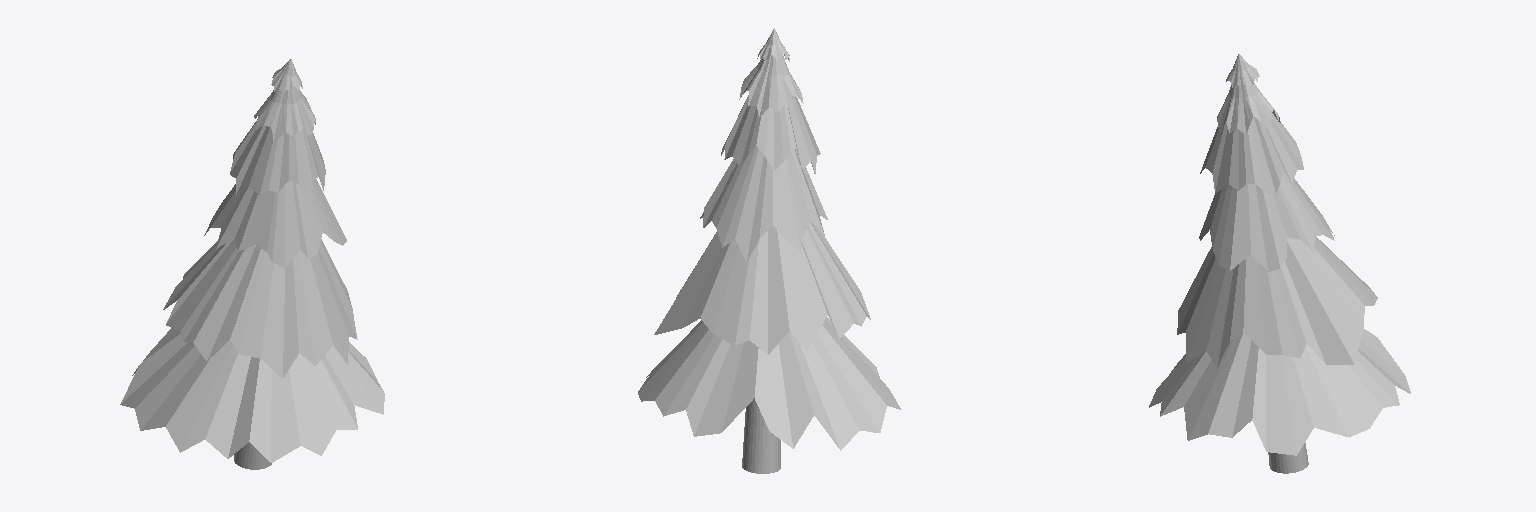
Rendered from tree_1.obj.
3 views of the same model, side by side, from view 1: azimuth 30°, elevation 25°; view 2: azimuth 150°, elevation 25°; view 3: azimuth 270°, elevation 25° (orthographic).
Parts seen in each view (by area): view 1: Tree.004_Cone.010; view 2: Tree.004_Cone.010; view 3: Tree.004_Cone.010.
Boxes of the visible parts, <box> form: Tree.004_Cone.010: <box>120,59,384,469</box>; Tree.004_Cone.010: <box>638,28,900,473</box>; Tree.004_Cone.010: <box>1149,54,1410,473</box>.
Size of the model in its own units: 3.11 by 5.47 by 3.11.